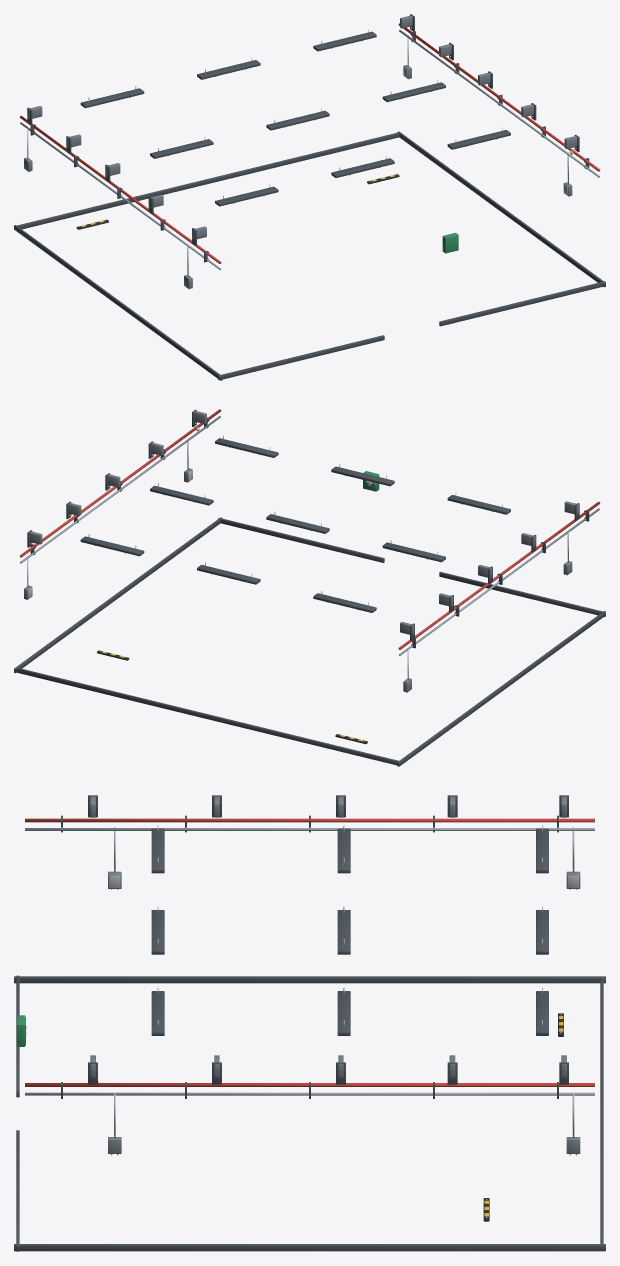
File: room-architecture.glb
3 views of the same model, one above another, from view 1: azimuth 30°, elevation 25°; view 2: azimuth 150°, elevation 25°; view 3: azimuth 270°, elevation 25° (orthographic). The views are drawn at different scales.
Visible parts, largest first — view 1: RoomArchitectureDetails; view 2: RoomArchitectureDetails; view 3: RoomArchitectureDetails.
Boxes of the visible parts, left/top/right/bottom form: RoomArchitectureDetails: left=14, top=14, right=605, bottom=380; RoomArchitectureDetails: left=14, top=409, right=605, bottom=766; RoomArchitectureDetails: left=14, top=795, right=605, bottom=1251.
Size of the model in its own units: 10.32 by 3.45 by 9.55.
